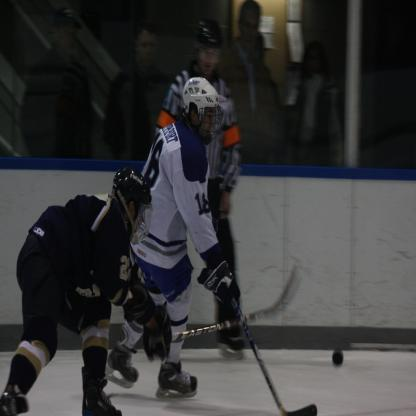Helmet: (113, 166, 149, 242), (181, 74, 219, 138)
